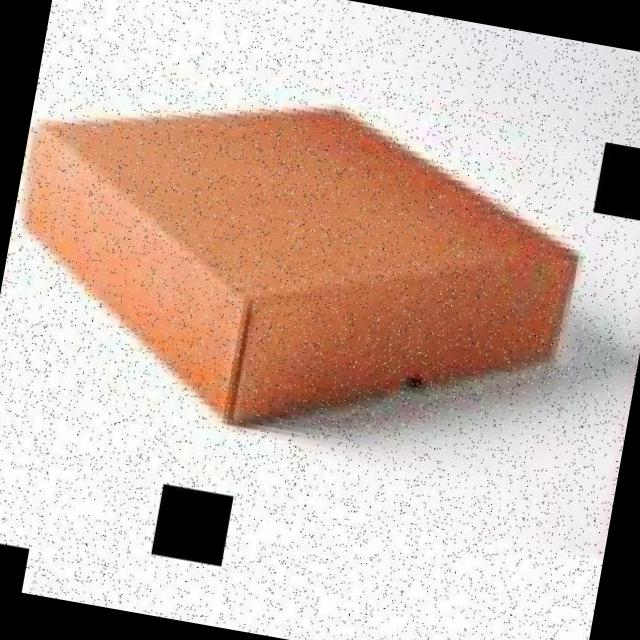box: (0, 54, 605, 487)
